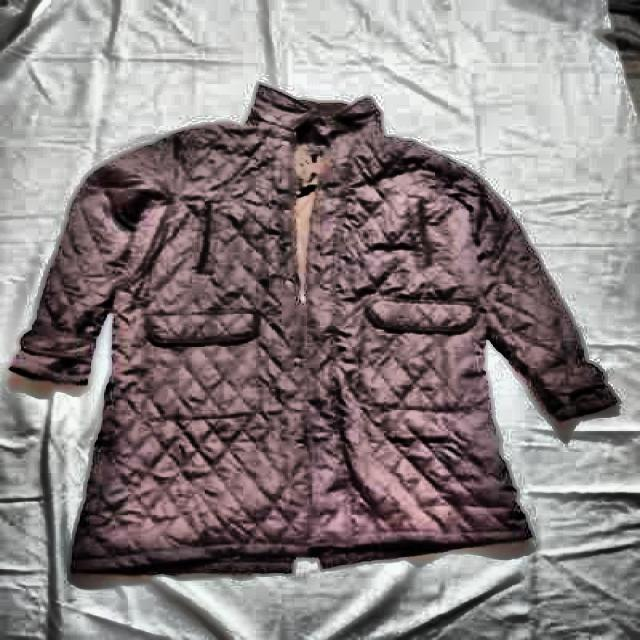clothes: (3, 78, 622, 582)
